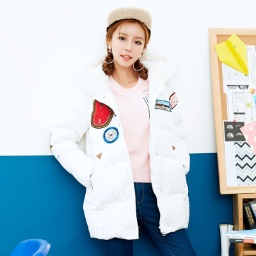face: (99, 17, 151, 78)
